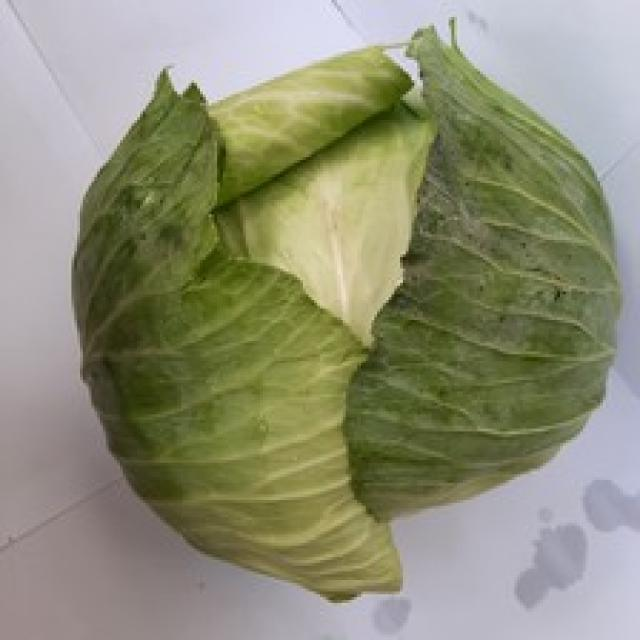Cabbage: (68, 14, 623, 603)
